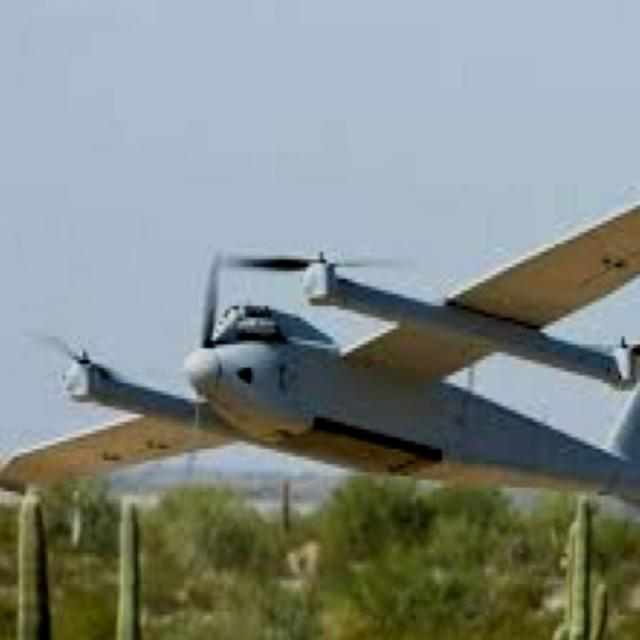plane: (2, 167, 640, 528)
